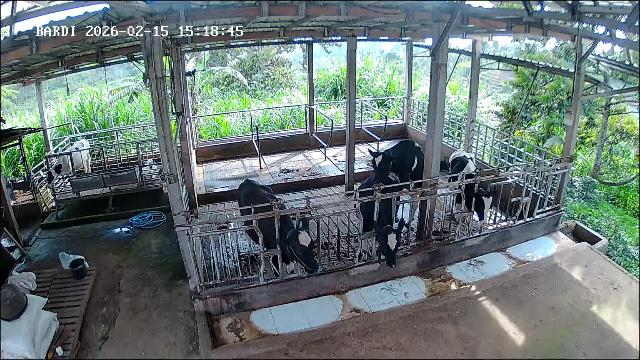mounting: (369, 138, 434, 224)
